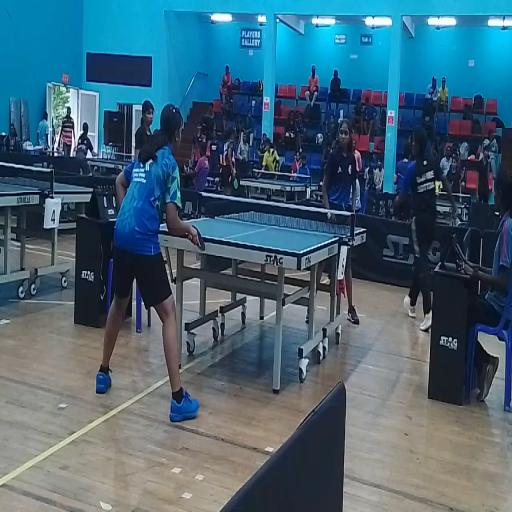ball: (327, 213, 331, 220)
